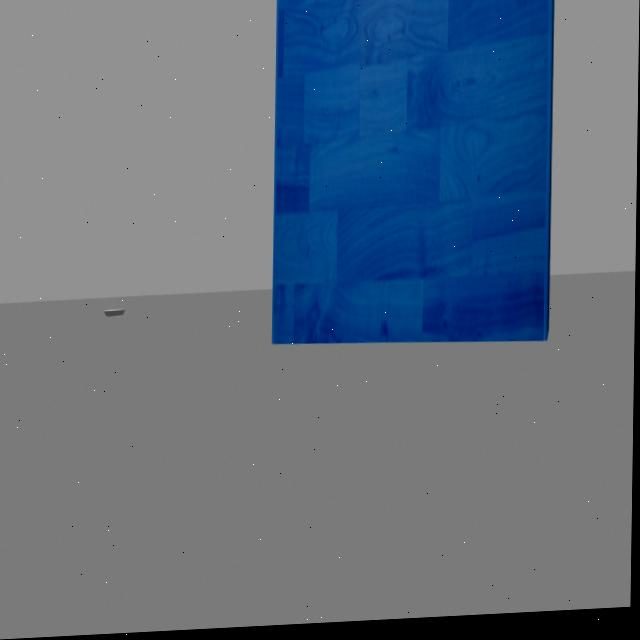bowl: (101, 303, 132, 326)
shelf: (264, 0, 573, 373)
